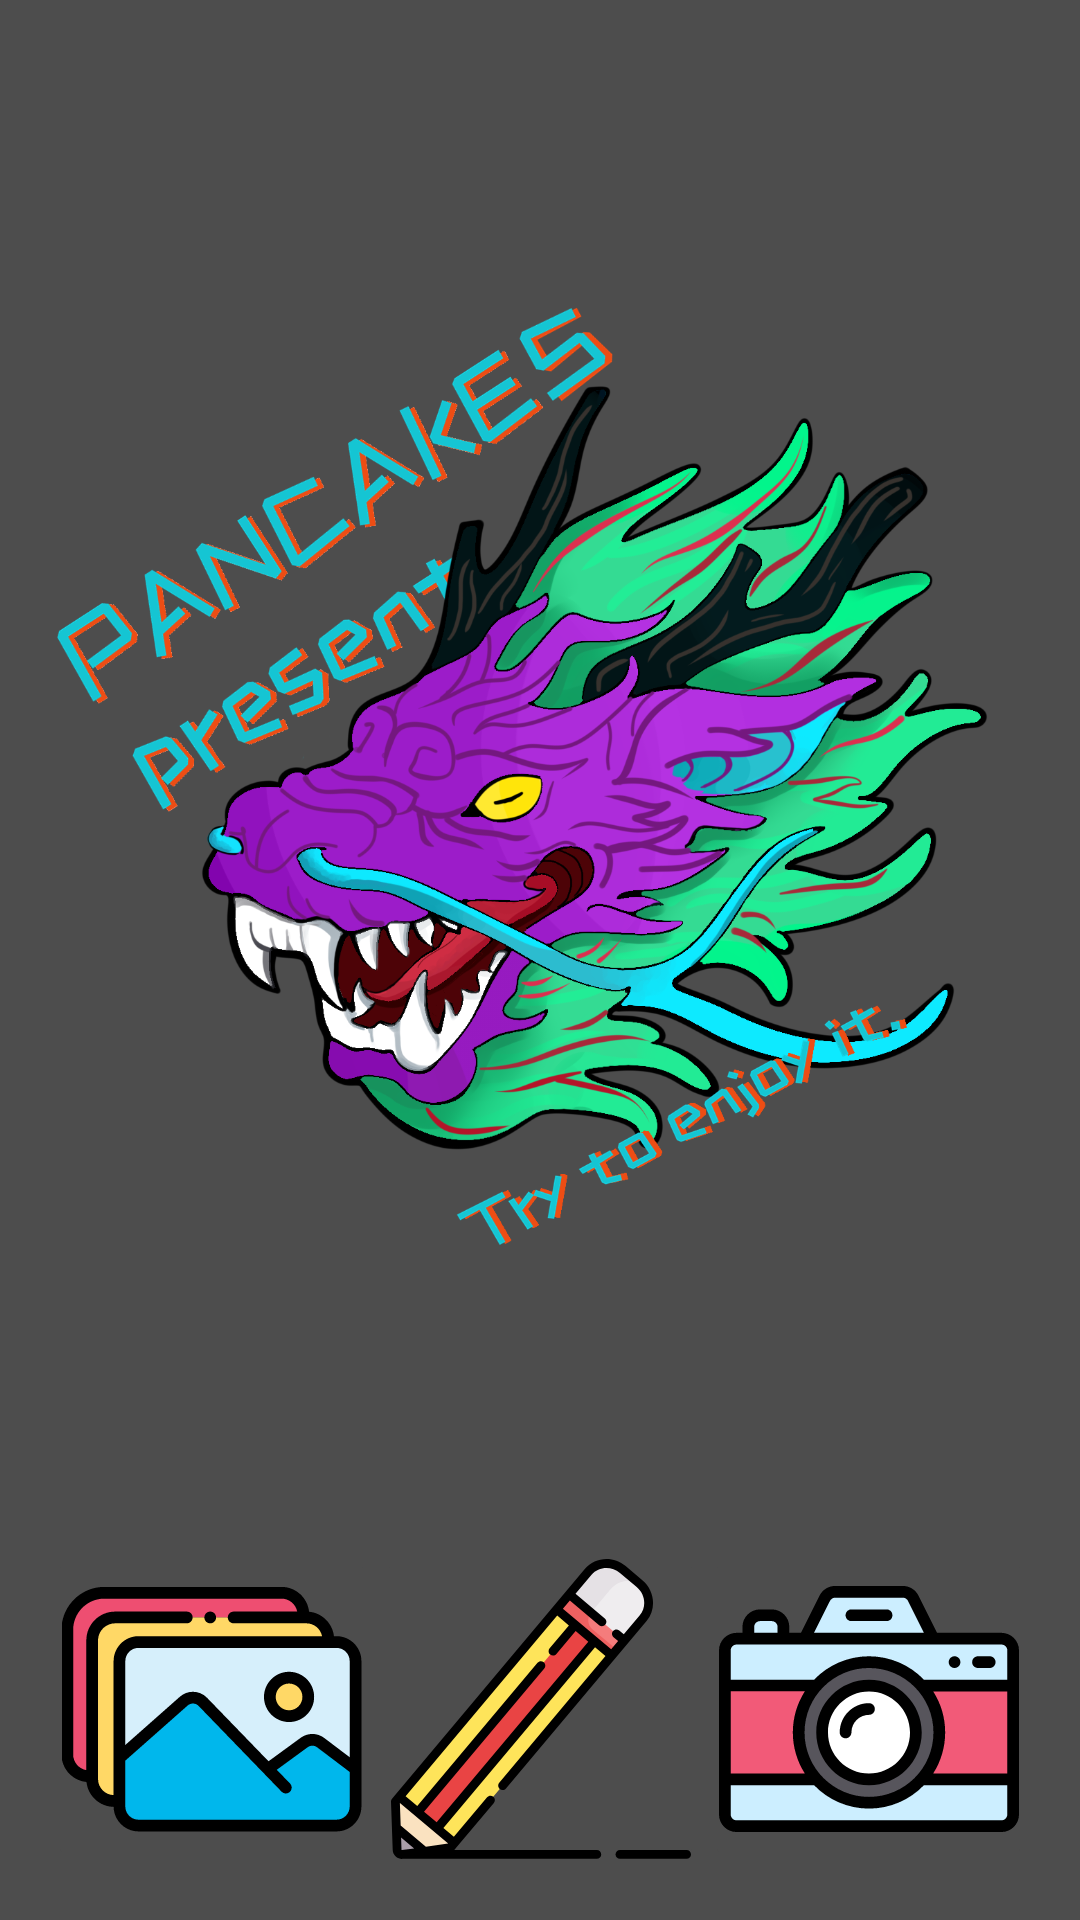

Named icons in this screenshot (1080 x 1920) and their bounding boxes, bbox=[x1, y1, x2, y2]:
camera: bbox=[719, 1586, 1019, 1832]
pencil: bbox=[391, 1559, 691, 1859]
photo: bbox=[62, 1587, 362, 1832]
